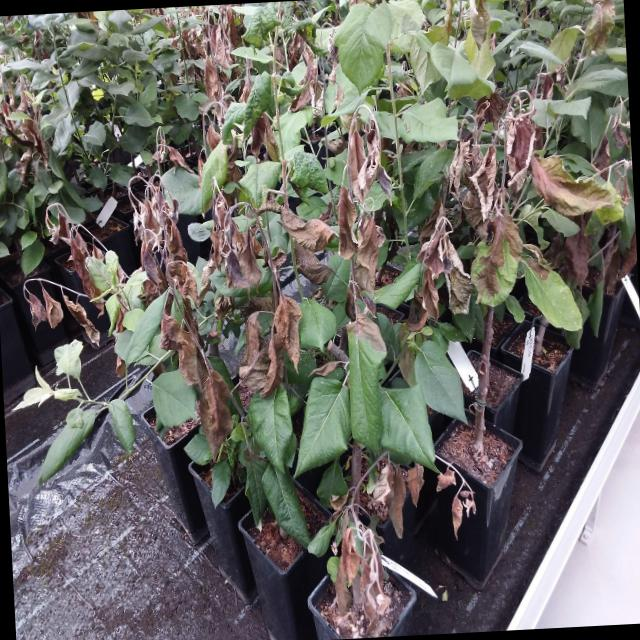-FireBlight-: (411, 91, 559, 330), (129, 168, 237, 463), (337, 104, 393, 354), (23, 205, 114, 350), (179, 12, 237, 150), (240, 297, 304, 404), (204, 193, 267, 289), (364, 455, 428, 540), (259, 189, 333, 256), (0, 83, 49, 182), (332, 530, 386, 615), (284, 29, 326, 116)
